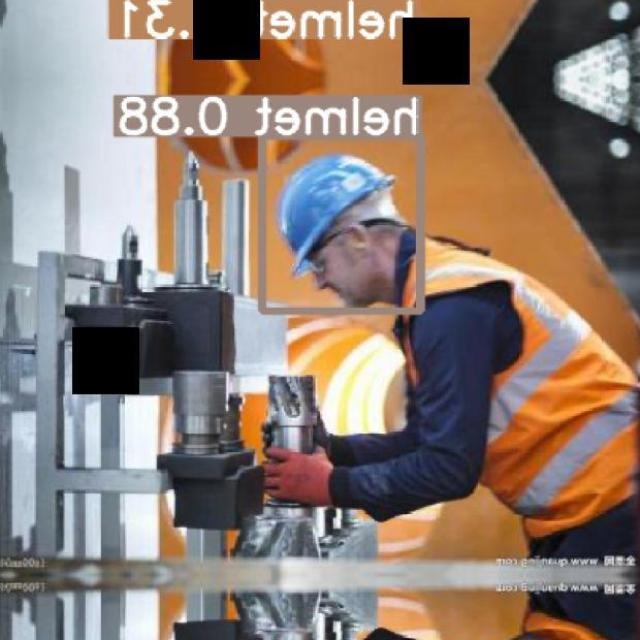helmet: (279, 152, 398, 278)
